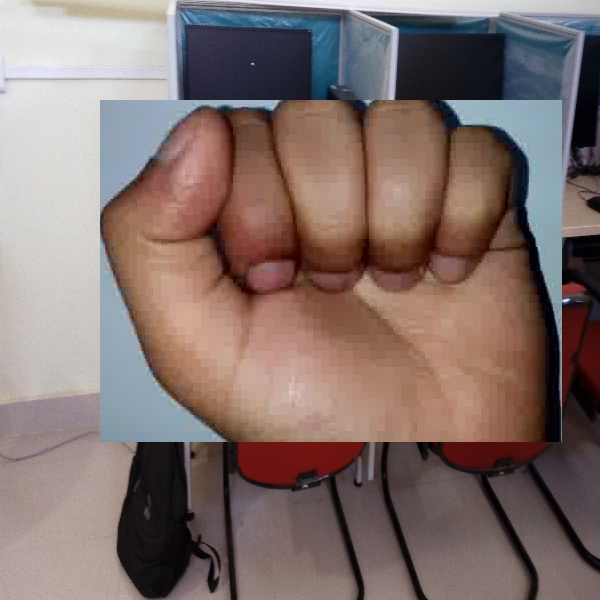A: (100, 100, 562, 442)
